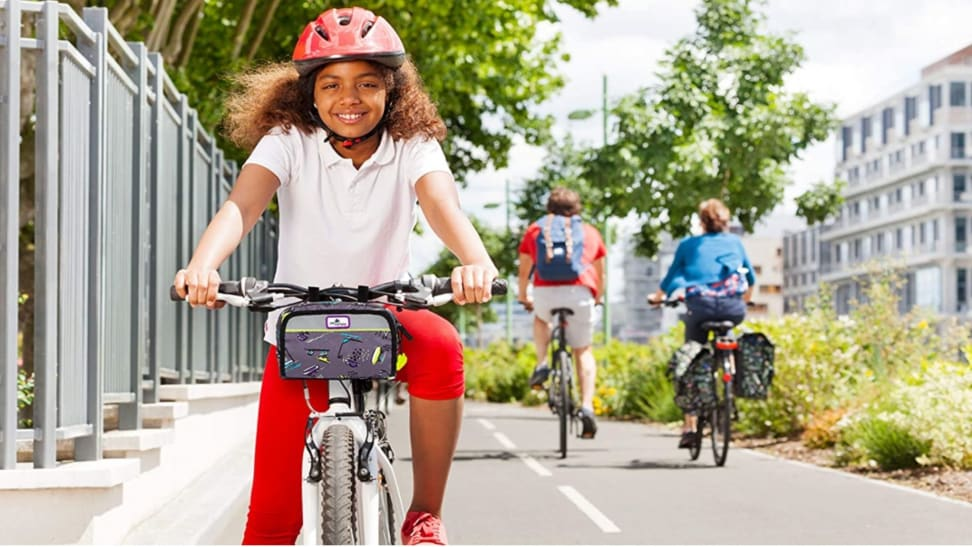helmet: (292, 6, 405, 138)
